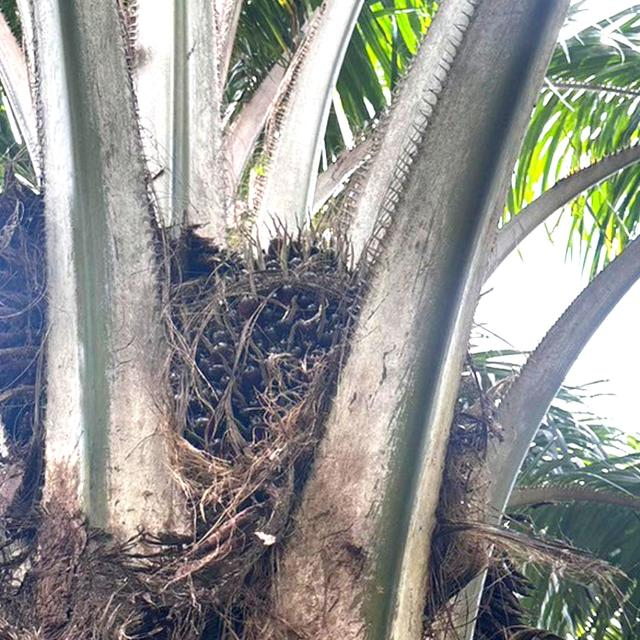ripe: (208, 233, 376, 449)
